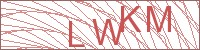K: (118, 3, 143, 34)
L: (66, 19, 87, 49)
M: (146, 5, 172, 33)
W: (90, 17, 124, 47)
